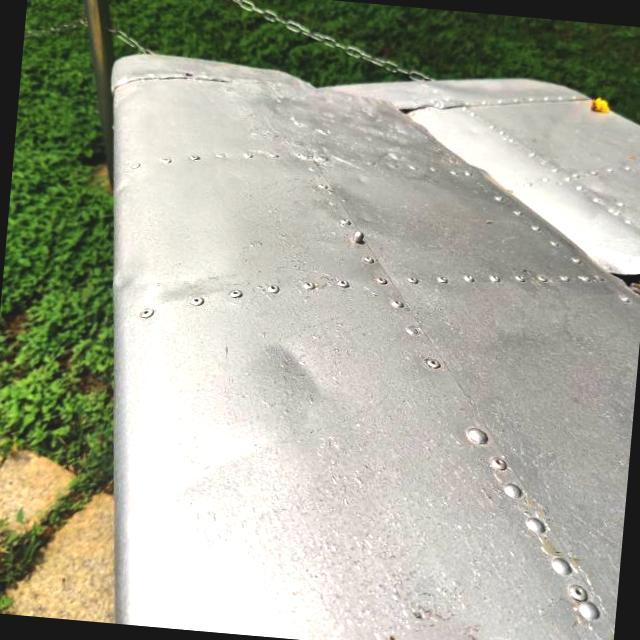dent: (116, 413, 288, 548), (240, 308, 352, 422)
